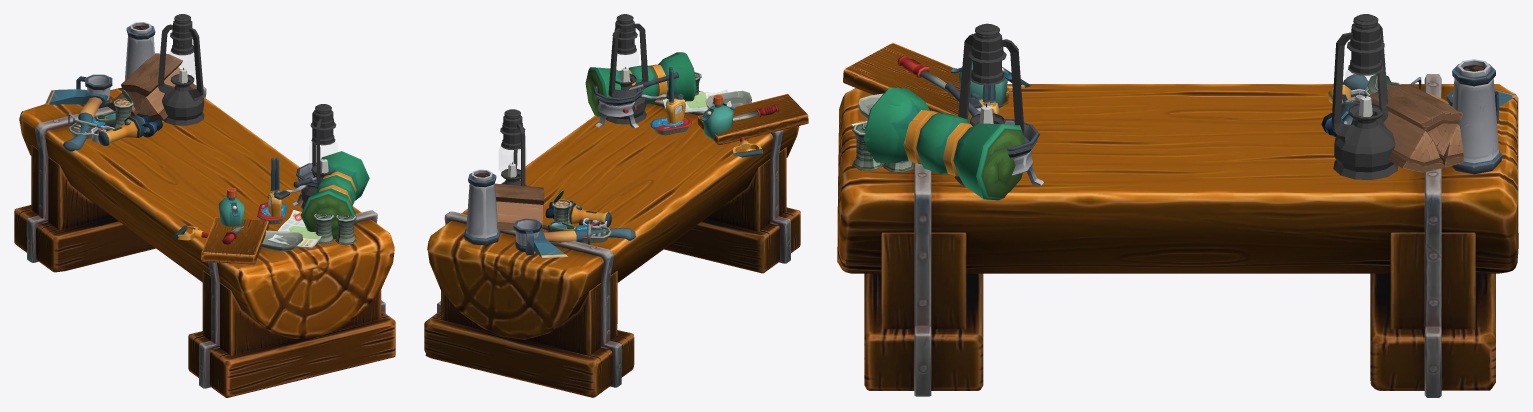
File: bench-setups.glb
The picture shows the model from 3 angles, left to right: view 1: azimuth 30°, elevation 25°; view 2: azimuth 150°, elevation 25°; view 3: azimuth 270°, elevation 25°; orthographic projection. The views are drawn at different scales.
Visible parts, largest first — view 1: Prop_Bench_01, Lantern_Table_2_Lantern_2, Matress, Prop_Wood_Plank, Axe, Lantern_Table_2_Lantern_2.002, Log__2_, Thermos, Shovel, Log, Flashlight, Map (+9 smaller); view 2: Prop_Bench_01, Matress, Prop_Wood_Plank, Lantern_Table_2_Lantern_2.002, Thermos, Lantern_Table_2_Lantern_2, Axe, Log__1_, DrinkingBottle, Log__2_, Shovel, Mug (+8 smaller); view 3: Prop_Bench_01, Matress, Lantern_Table_2_Lantern_2, Thermos, Prop_Wood_Plank, Lantern_Table_2_Lantern_2.002, Log__2_, Log, CanClosed__1_, Pan, DrinkingBottle, Knife (+1 smaller).
Boxes of the visible parts, box(x1,y1,x2,y2) form: Prop_Bench_01: box(14, 85, 395, 397); Lantern_Table_2_Lantern_2: box(158, 14, 204, 125); Matress: box(301, 151, 369, 238); Prop_Wood_Plank: box(201, 217, 268, 264); Axe: box(45, 89, 107, 151); Lantern_Table_2_Lantern_2.002: box(301, 104, 336, 209); Log__2_: box(121, 53, 182, 111); Thermos: box(124, 22, 155, 80); Shovel: box(173, 225, 302, 251); Log: box(137, 67, 196, 121); Flashlight: box(98, 115, 145, 145); Map: box(267, 210, 321, 248); Prop_Bench_01: box(424, 91, 800, 397); Matress: box(585, 52, 696, 117); Prop_Wood_Plank: box(697, 94, 808, 145); Lantern_Table_2_Lantern_2.002: box(606, 14, 648, 124); Thermos: box(464, 169, 500, 245); Lantern_Table_2_Lantern_2: box(500, 109, 526, 186); Axe: box(534, 227, 635, 257); Log__1_: box(496, 201, 542, 230); DrinkingBottle: box(700, 94, 735, 139); Log__2_: box(495, 183, 544, 205); Shovel: box(705, 90, 762, 157); Mug: box(513, 218, 541, 255); Prop_Bench_01: box(837, 74, 1518, 397); Matress: box(863, 87, 1025, 200); Lantern_Table_2_Lantern_2: box(1331, 14, 1398, 179); Thermos: box(1451, 59, 1502, 174); Prop_Wood_Plank: box(843, 43, 1009, 115); Lantern_Table_2_Lantern_2.002: box(954, 23, 1024, 185); Log__2_: box(1368, 84, 1462, 155); Log: box(1383, 111, 1444, 172); CanClosed__1_: box(852, 122, 883, 170); Pan: box(969, 97, 1039, 159); DrinkingBottle: box(951, 61, 1011, 107); Knife: box(897, 55, 948, 92).
Bounding box in the file's own units: 0.9928 × 1.11 × 2.
40 materials, 28 textured.
